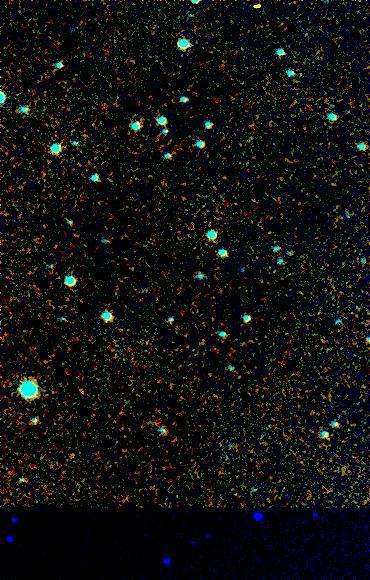star: (245, 0, 275, 21)
